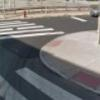crosswalks: (0, 21, 65, 39)
